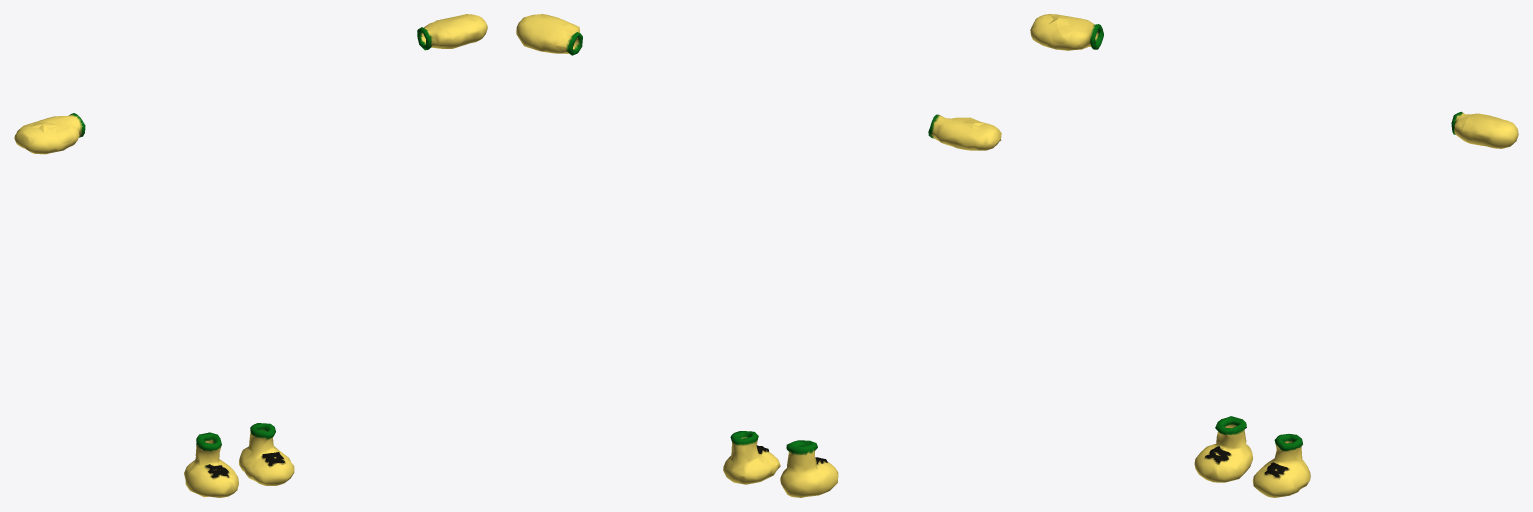
Rendered from tree shoes and gloves.glb.
3 renders of one model, left to right at view 1: azimuth 30°, elevation 25°; view 2: azimuth 150°, elevation 25°; view 3: azimuth 330°, elevation 25°, orthographic. The views are drawn at different scales.
Parts seen in each view (by area): view 1: accessories_christmas_tree.001; view 2: accessories_christmas_tree.001; view 3: accessories_christmas_tree.001.
Boxes of the visible parts, x1,y1,x2,y2 form: accessories_christmas_tree.001: [14, 14, 487, 497]; accessories_christmas_tree.001: [516, 14, 1001, 497]; accessories_christmas_tree.001: [1030, 14, 1518, 497].
Size of the model in its own units: 1.01 by 0.8412 by 0.1322.
1 material, 1 textured.
